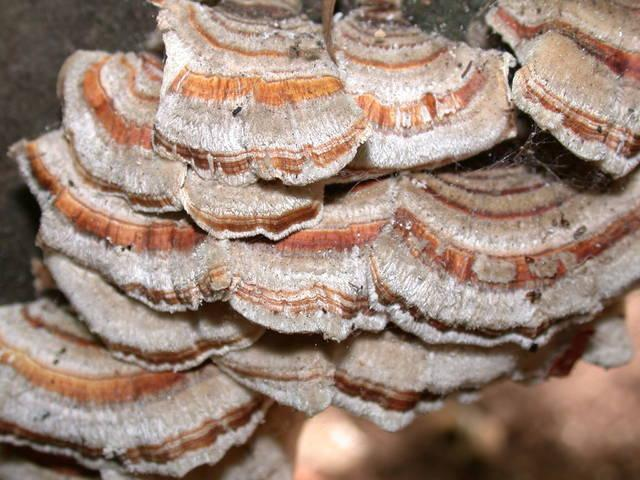Non-edible Mushroom: (0, 0, 639, 479), (146, 0, 370, 188)
